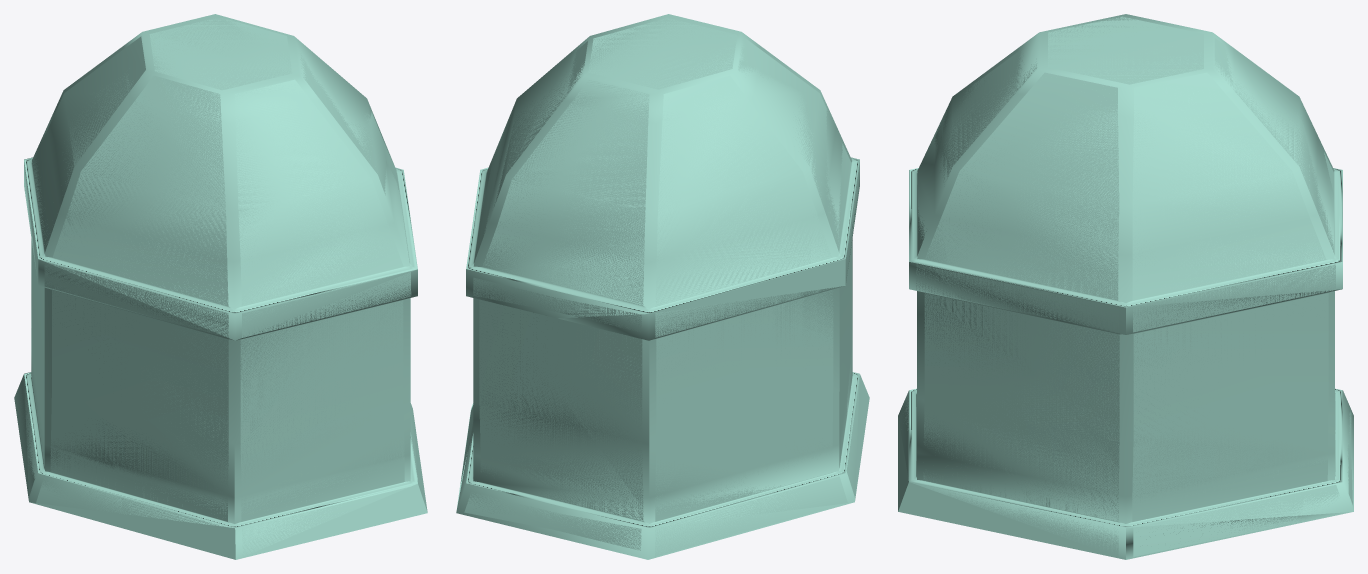
The model's file is space-kit__hangar_roundA.glb.
The picture shows the model from 3 angles, left to right: view 1: azimuth 30°, elevation 25°; view 2: azimuth 150°, elevation 25°; view 3: azimuth 270°, elevation 25°; orthographic projection. The views are drawn at different scales.
Visible parts, largest first — view 1: L0_accent, L1_accent; view 2: L0_accent, L1_accent; view 3: L0_accent, L1_accent.
Boxes of the visible parts, x1=… form: L0_accent: x1=15, y1=18, x2=420, y2=556; L1_accent: x1=14, y1=14, x2=427, y2=559; L0_accent: x1=460, y1=18, x2=863, y2=556; L1_accent: x1=456, y1=14, x2=869, y2=559; L0_accent: x1=898, y1=16, x2=1352, y2=557; L1_accent: x1=898, y1=14, x2=1353, y2=559.
Bounding box in the file's own units: 1 × 1 × 1.
